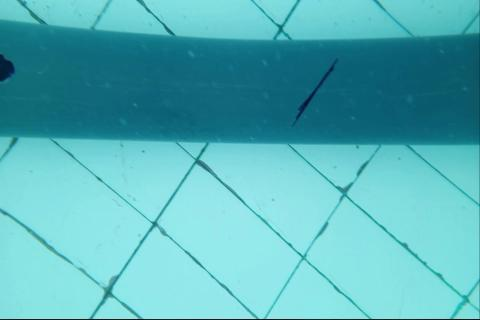kebocoran: (0, 52, 16, 85)
keretakan: (294, 56, 339, 128)
